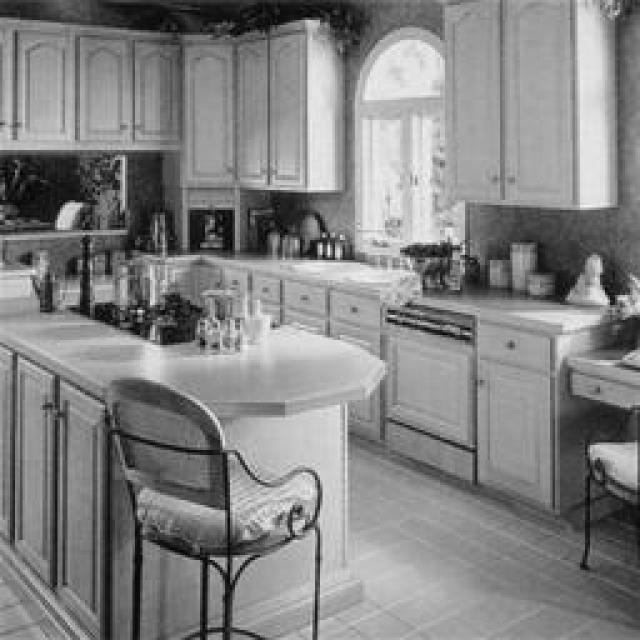chair: (92, 374, 322, 638)
